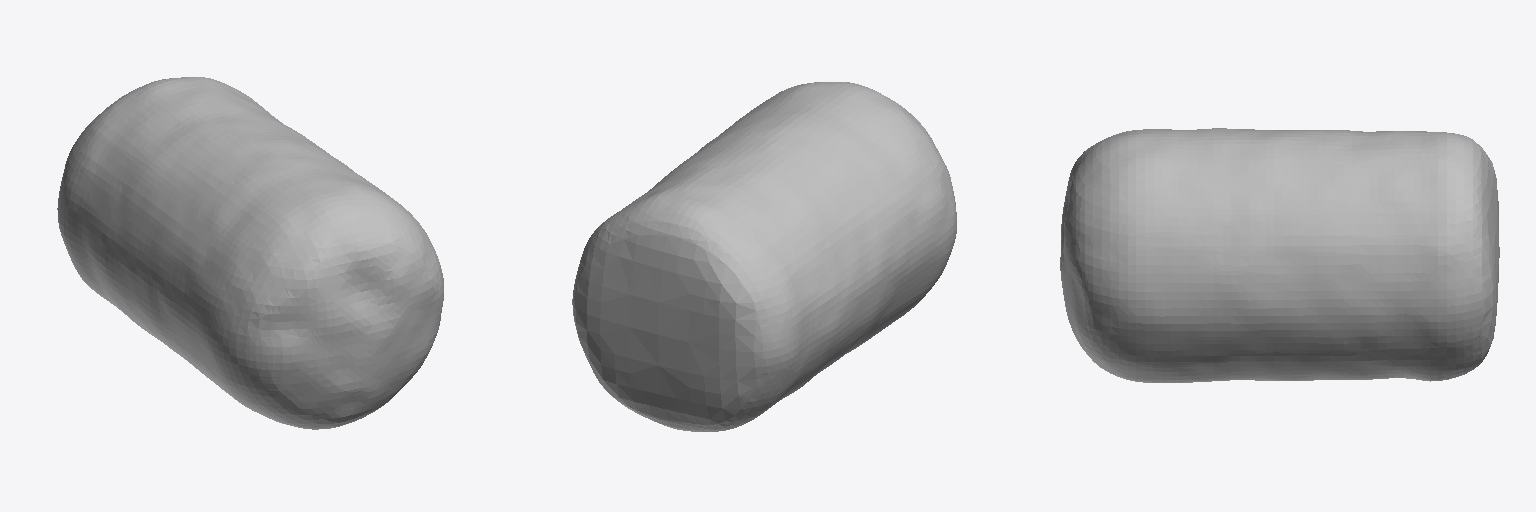
File: optimized_poisson_texture_mapped_mesh.obj
The picture shows the model from 3 angles: view 1: azimuth 30°, elevation 25°; view 2: azimuth 150°, elevation 25°; view 3: azimuth 270°, elevation 25°; orthographic projection.
Bounding box in the file's own units: 0.0699 × 0.0699 × 0.1196.